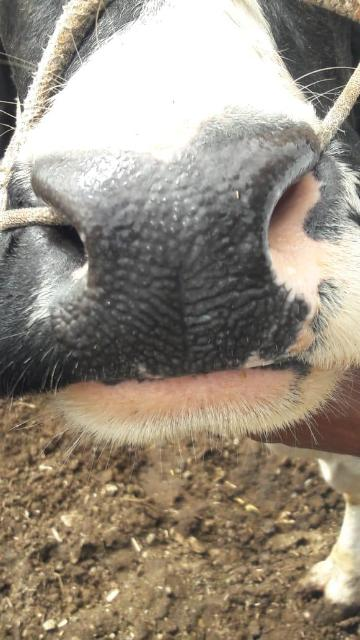Muzzle: (82, 172, 264, 370)
